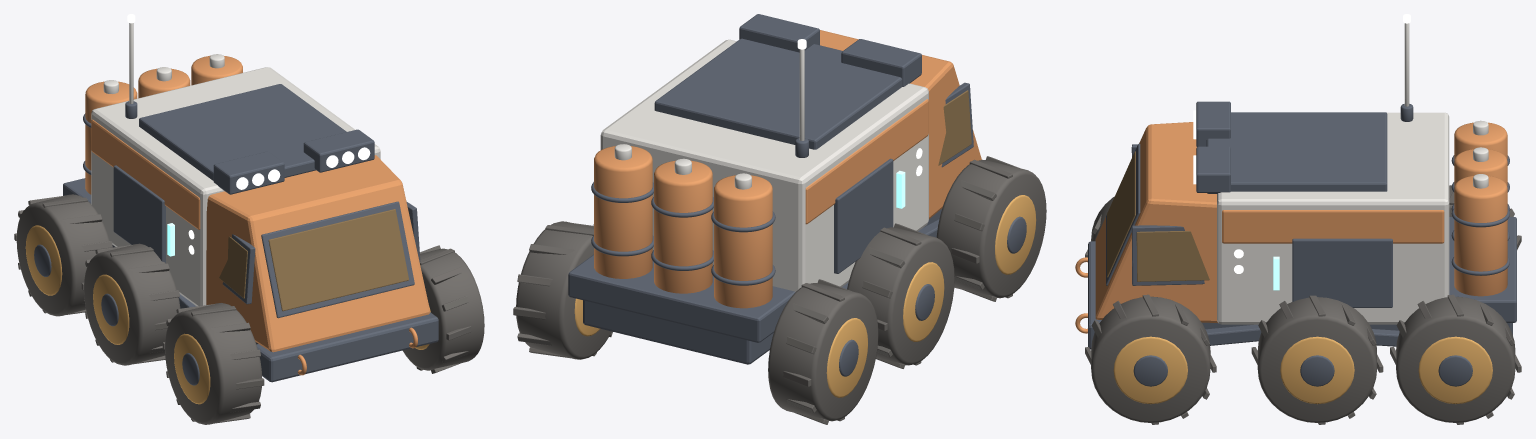
The model's file is bento-rover.glb.
3 views of the same model, side by side, from view 1: azimuth 30°, elevation 25°; view 2: azimuth 150°, elevation 25°; view 3: azimuth 270°, elevation 25° (orthographic). The views are drawn at different scales.
Visible parts, largest first — view 1: Cockpit_Nose, Cabin_MidHull, Roof_EquipmentRack, Cockpit_Windshield, Wheel_Tire_-1_0, Wheel_Tire_-1_1, Wheel_Tire_-1_2, Wheel_Tire_1_0, Chassis_FrontBumper, Cabin_OrangeBelt, Side_Locker_-1, Cockpit_Windshield_Frame (+13 smaller); view 2: Cabin_MidHull, Roof_EquipmentRack, Wheel_Tire_-1_2, Wheel_Tire_-1_0, Rear_TankDeck, Wheel_Tire_-1_1, Rear_O2_Tank_-0.4, Rear_O2_Tank_0.0, Rear_O2_Tank_0.4, Wheel_Tire_1_2, Chassis_MainSpine, Cabin_OrangeBelt (+13 smaller); view 3: Cabin_MidHull, Roof_EquipmentRack, Cockpit_Nose, Wheel_Tire_1_0, Wheel_Tire_1_2, Wheel_Tire_1_1, Cabin_OrangeBelt, Side_Locker_1, Rear_O2_Tank_0.4, Cockpit_SideWindow_1, Wheel_Rim_1_1, Wheel_Rim_1_2 (+15 smaller).
Part boxes in pixels (x1,y1,x2,y2): Cockpit_Nose: (206,155,430,352); Cabin_MidHull: (91,67,380,306); Roof_EquipmentRack: (139,84,346,180); Cockpit_Windshield: (268,209,408,311); Wheel_Tire_-1_0: (165,303,261,424); Wheel_Tire_-1_1: (84,243,180,365); Wheel_Tire_-1_2: (16,194,109,316); Wheel_Tire_1_0: (402,248,484,370); Chassis_FrontBumper: (256,312,438,382); Cabin_OrangeBelt: (91,119,200,229); Side_Locker_-1: (113,165,165,263); Cockpit_Windshield_Frame: (261,201,414,318); Cabin_MidHull: (600,39,928,291); Roof_EquipmentRack: (654,38,902,149); Wheel_Tire_-1_2: (768,283,878,421); Wheel_Tire_-1_0: (936,159,1046,298); Rear_TankDeck: (568,254,795,342); Wheel_Tire_-1_1: (847,227,954,365); Rear_O2_Tank_-0.4: (714,175,772,308); Rear_O2_Tank_0.0: (654,160,712,293); Rear_O2_Tank_0.4: (594,146,652,278); Wheel_Tire_1_2: (516,221,611,359); Chassis_MainSpine: (583,208,942,364); Cabin_OrangeBelt: (805,99,928,224); Cabin_MidHull: (1217,112,1449,324); Roof_EquipmentRack: (1206,112,1387,193); Cockpit_Nose: (1095,122,1217,322); Wheel_Tire_1_0: (1091,296,1210,422); Wheel_Tire_1_2: (1396,296,1515,422); Wheel_Tire_1_1: (1257,297,1376,422); Cabin_OrangeBelt: (1222,210,1444,243); Side_Locker_1: (1292,238,1392,307); Rear_O2_Tank_0.4: (1454,175,1507,296); Cockpit_SideWindow_1: (1136,231,1209,281); Wheel_Rim_1_1: (1280,336,1354,404); Wheel_Rim_1_2: (1418,336,1492,404).
Bounding box in the file's own units: 2.03 × 2.17 × 2.84.
